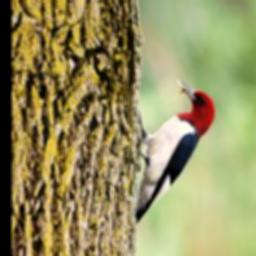Woodpecker: (136, 80, 216, 222)
